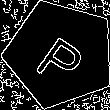P_NE: (29, 23, 91, 86)
